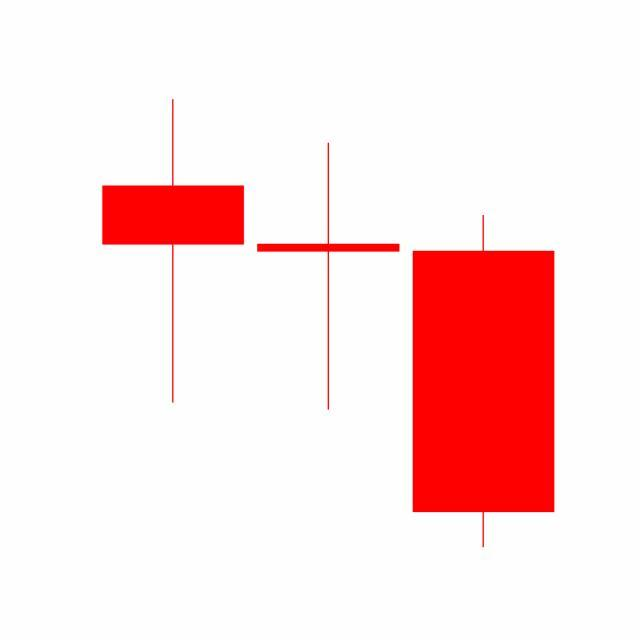Spinning Top: (250, 141, 407, 415)
